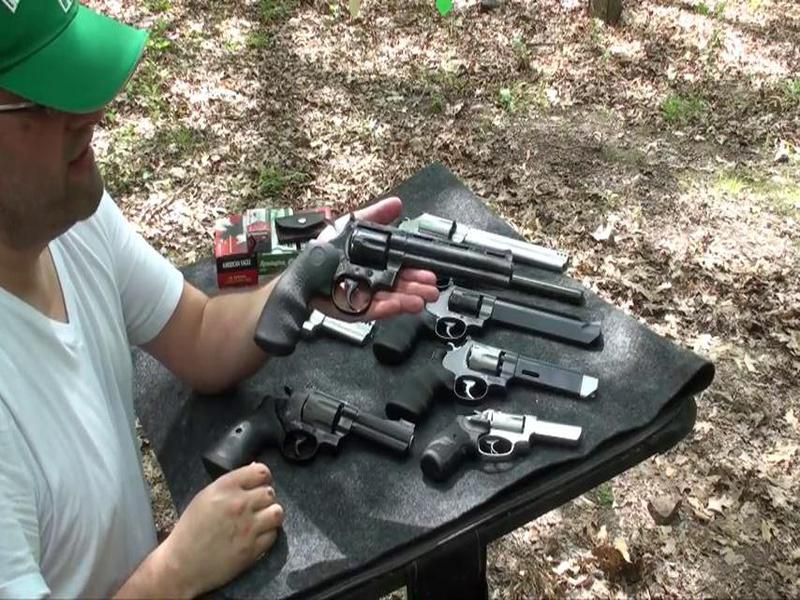Revolver: (267, 211, 517, 329), (424, 399, 587, 486)
